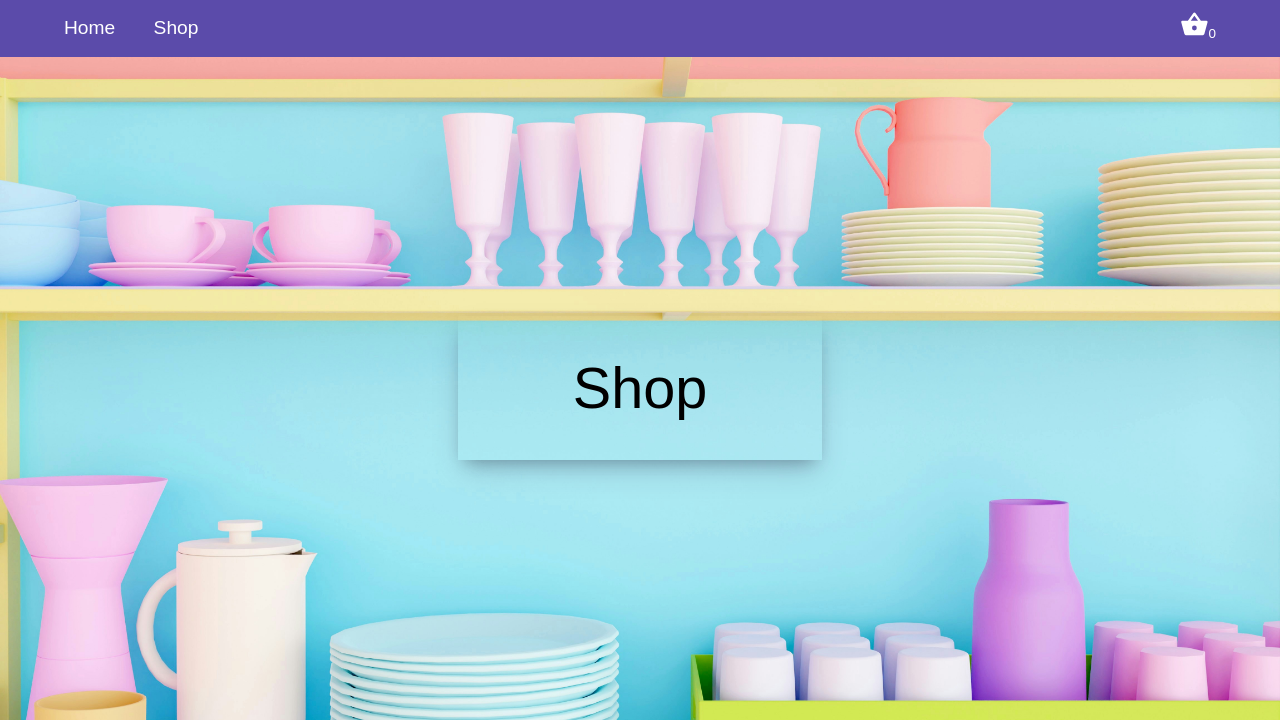
App integration tests › Updating the basket contents › displays products on Basket page after adding items from shop
What coordinates should you click on to do the following:
click the link "Shop" next to "Home"
I would click on:
 (176, 28)
Its box is [154,17,198,38].
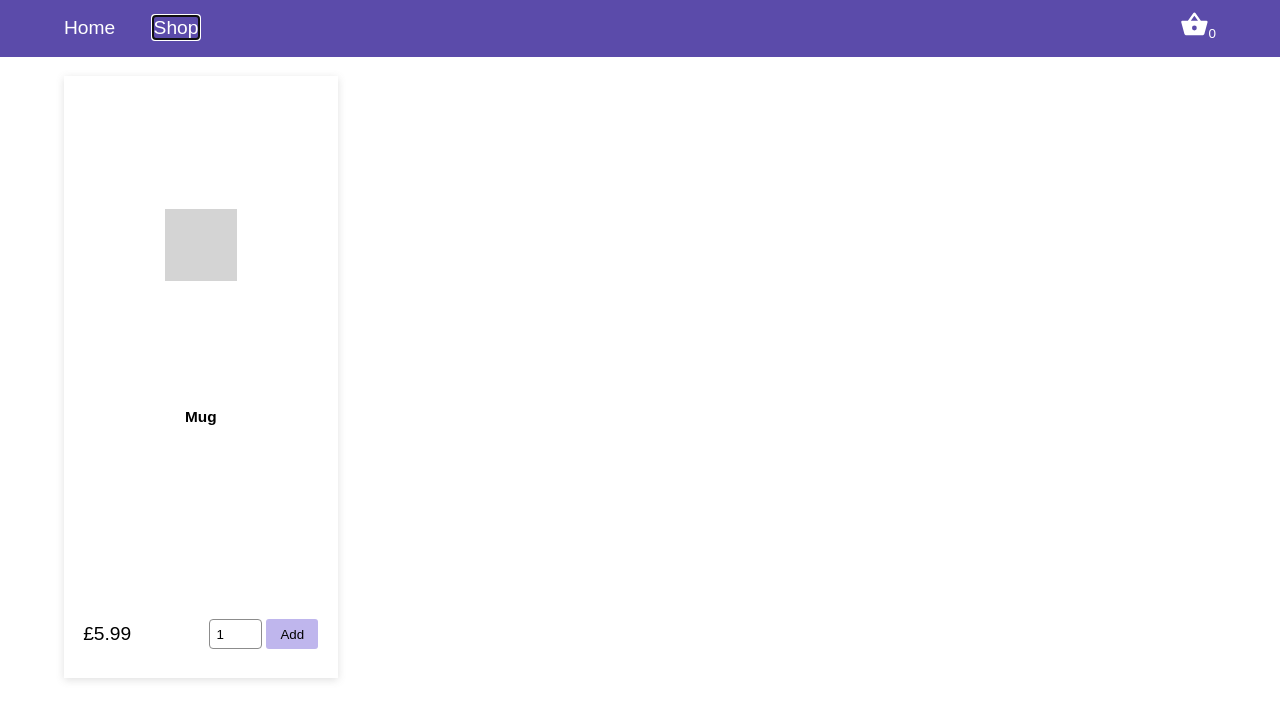
What coordinates should you click on to do the following:
click the button "Add"
I would click on:
 (292, 634)
Its box is [266,619,318,650].
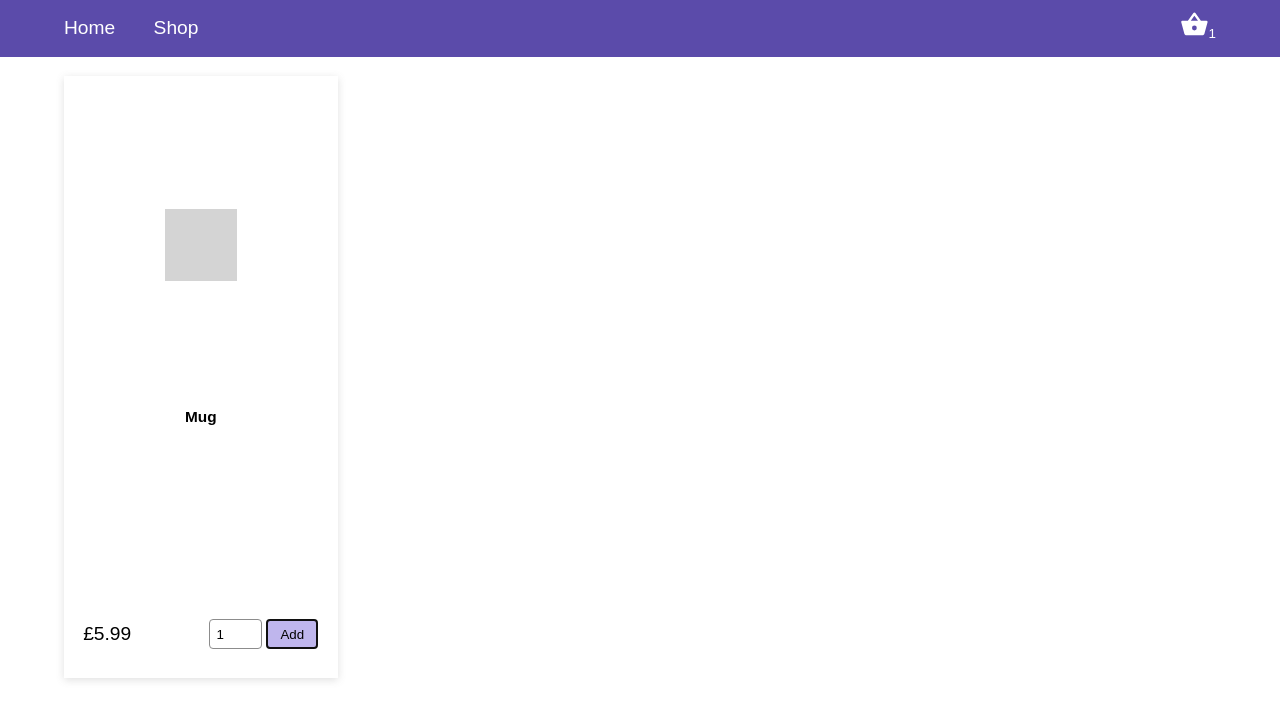
What coordinates should you click on to do the following:
click the link named "basket"
I would click on:
 (1198, 32)
Its box is [1180,21,1216,42].
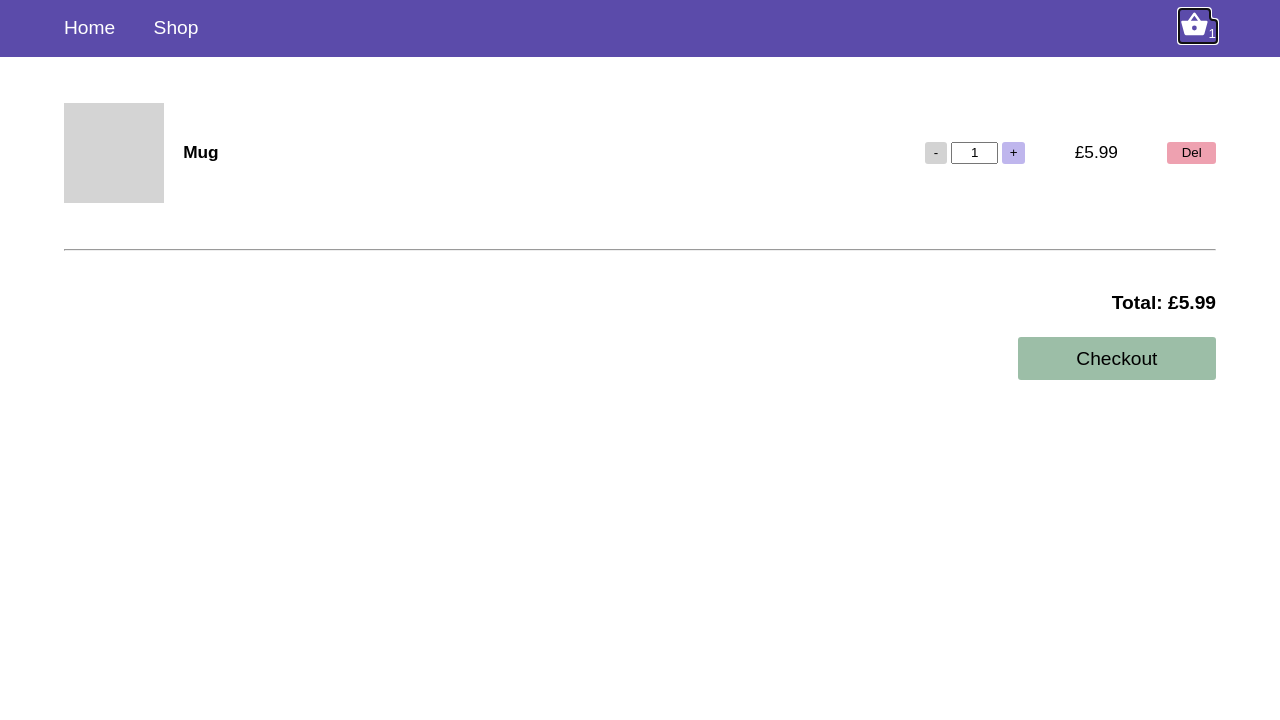
Expected: the heading "Mug" is shown, [183,140,219,166]
Expected: the element with test id "basket-page" is shown, [64,57,1216,438]
